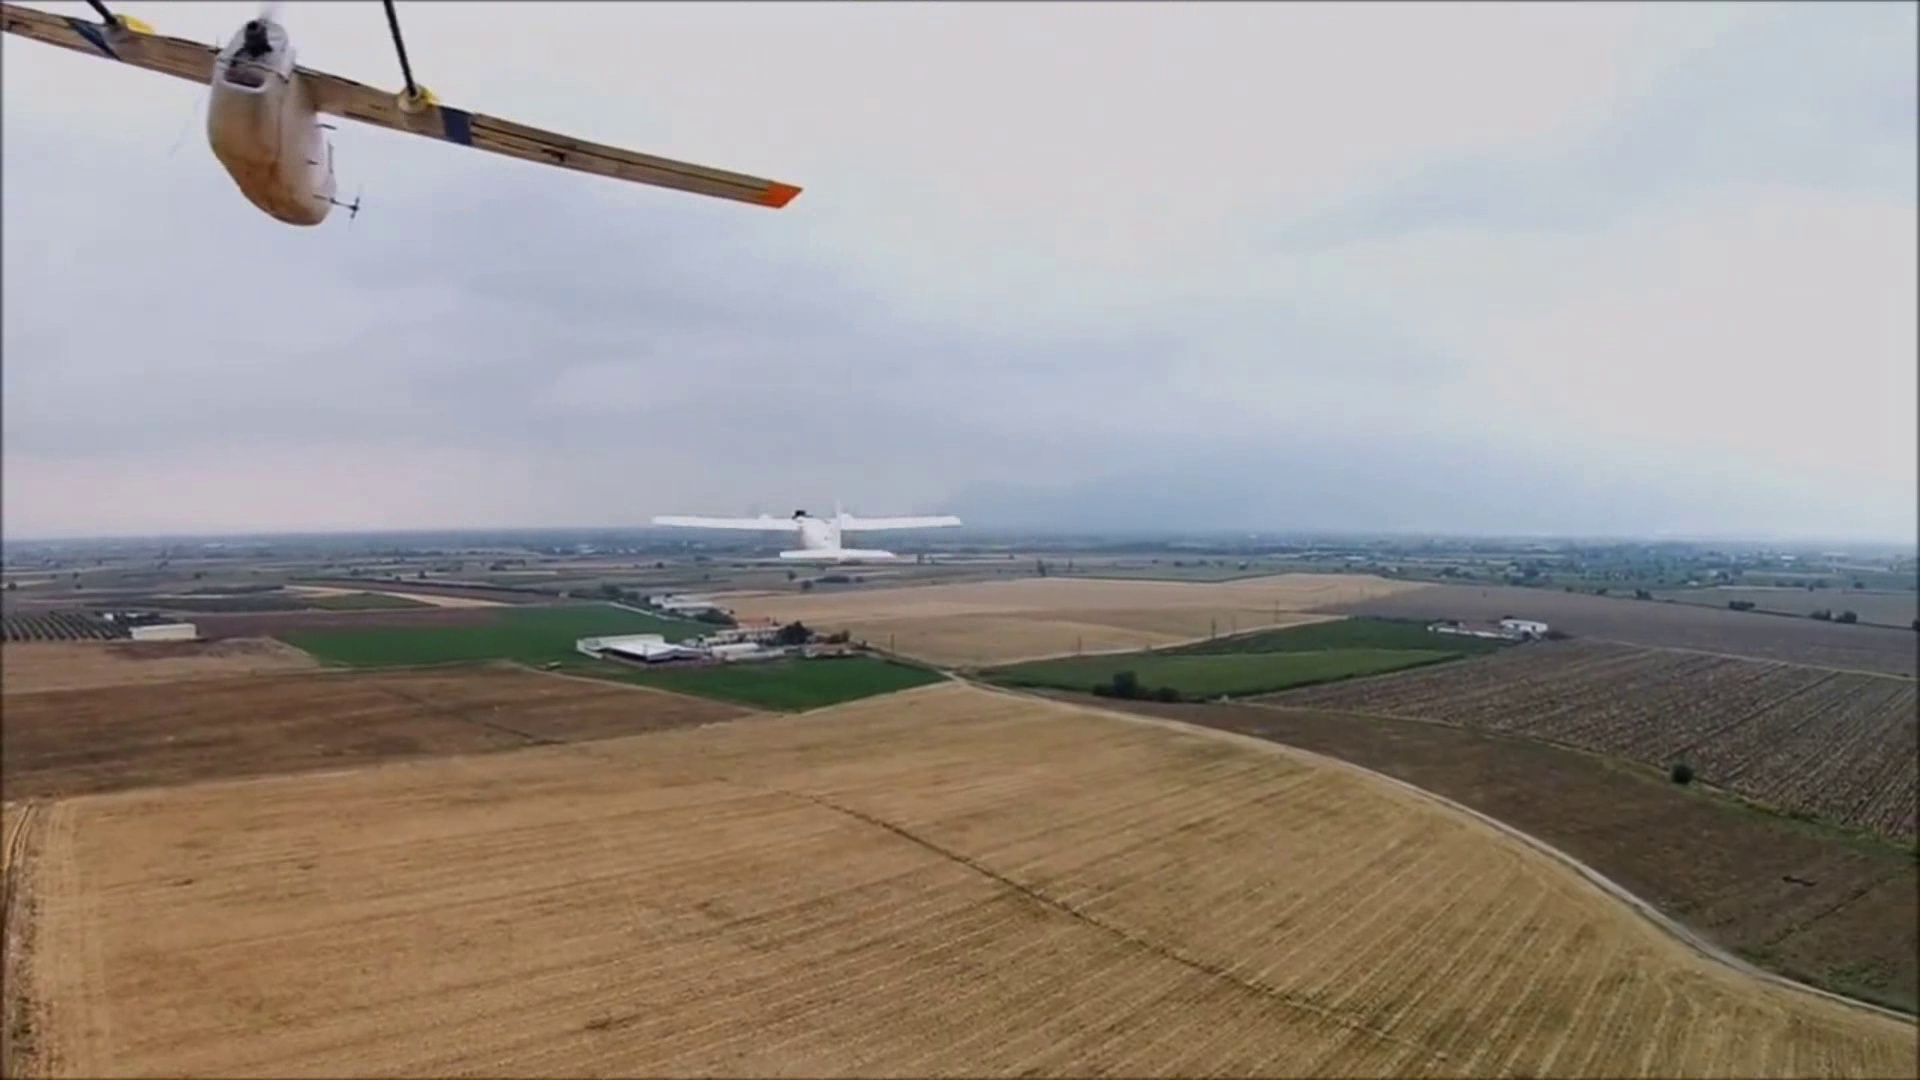airplane: (3, 3, 802, 227)
